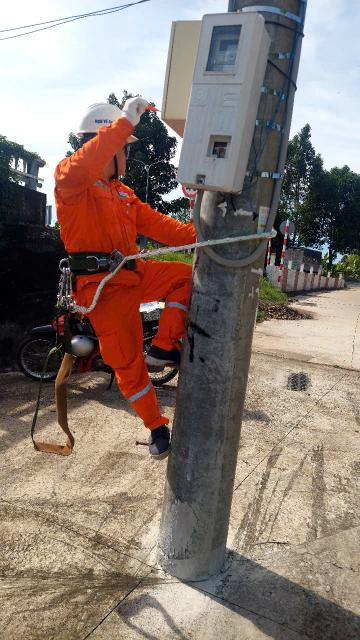gloves: (123, 93, 159, 127)
harness: (54, 248, 147, 277)
helmet: (61, 98, 142, 147)
shoes: (127, 417, 182, 468), (139, 343, 199, 367)
